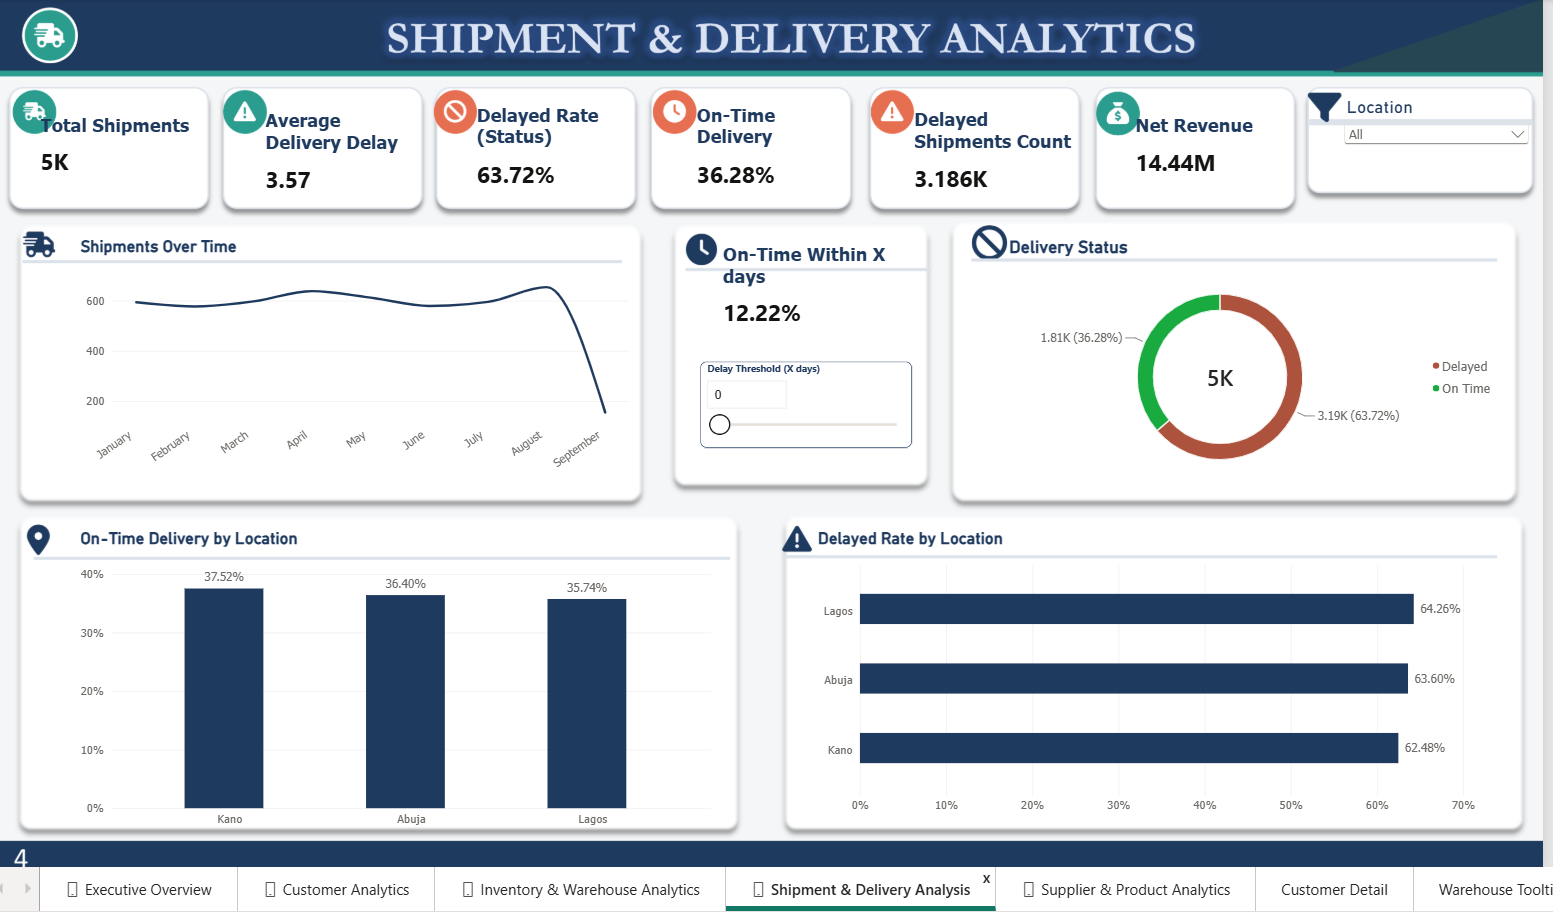

Layout of this report page (visuals, bound fields, positions):
{"tool":"powerbi","page":{"name":"Shipment & Delivery Analysis","canvas":[1920,1080],"ordinal":3},"visuals":[{"type":"cardVisual","fields":{"Data":["Shipments.Total Shipments"]},"box":[35.2,108.9,221.1,147.4],"z":0},{"type":"cardVisual","fields":{"Data":["Shipments.Average Delivery Delay"]},"box":[315.5,122.8,216.1,135.7],"z":1000},{"type":"columnChart","fields":{"Category":["Warehouses.Location"],"Y":["Shipments.On-Time Delivery"]},"box":[85.4,643.2,815.7,405.3],"z":2000},{"type":"barChart","title":"Delayed Rate by Location","fields":{"Category":["Warehouses.Location"],"Y":["Delay Threshold.Delayed Rate (Status)"]},"box":[1003.3,643.2,849.2,388.6],"z":3000},{"type":"slicer","fields":{"Values":["Warehouses.Location"]},"box":[1668.2,120.6,239.5,93.8],"z":4000},{"type":"cardVisual","fields":{"Data":["Delay Threshold.Delay Rate (Status)"]},"box":[577.9,120.6,209.4,125.6],"z":5000},{"type":"cardVisual","fields":{"Data":["Shipments.On-Time Delivery"]},"box":[852.5,120.6,216.1,125.6],"z":6000},{"type":"cardVisual","fields":{"Data":["Customers.Net Revenue"]},"box":[1397.4,111.9,212.7,142.4],"z":7000},{"type":"donutChart","title":"Delivery Status","fields":{"Category":["Delivery_Performance.Status"],"Y":["CountNonNull(Delivery_Performance.Status)"]},"box":[1241.1,281.4,639.8,338.3],"z":8000},{"type":"lineChart","title":" Shipments Over Time","fields":{"Category":["Orders.OrderDate.Variation.Date Hierarchy.Month"],"Y":["Shipments.Total Shipments"]},"box":[85.4,281.4,713.5,338.3],"z":9000},{"type":"cardVisual","fields":{"Data":["Shipments.Delayed Shipments Count"]},"box":[1122.3,121.2,242.5,135.2],"z":11000},{"type":"slicer","fields":{"Values":["Delay Threshold.Delay Threshold"]},"box":[872.6,450.6,263,107.2],"z":12000},{"type":"cardVisual","fields":{"Data":["Shipments.On-Time Within Threshold"]},"box":[884.4,281.4,263,150.7],"z":13000}]}

Visuals, with their boxes on the page's 1920x1080 design canvas (x1, y1, x2, y2). These are canvas units, not pixel positions in the 1553x912 screenshot, which may show the page scaled, cropped or inside an application window:
cardVisual - Shipments.Total Shipments: left=35, top=109, right=256, bottom=256
cardVisual - Shipments.Average Delivery Delay: left=316, top=123, right=532, bottom=258
columnChart - Warehouses.Location x Shipments.On-Time Delivery: left=85, top=643, right=901, bottom=1048
"Delayed Rate by Location" barChart: left=1003, top=643, right=1852, bottom=1032
slicer - Warehouses.Location: left=1668, top=121, right=1908, bottom=214
cardVisual - Delay Threshold.Delay Rate (Status): left=578, top=121, right=787, bottom=246
cardVisual - Shipments.On-Time Delivery: left=852, top=121, right=1069, bottom=246
cardVisual - Customers.Net Revenue: left=1397, top=112, right=1610, bottom=254
"Delivery Status" donutChart: left=1241, top=281, right=1881, bottom=620
" Shipments Over Time" lineChart: left=85, top=281, right=799, bottom=620
cardVisual - Shipments.Delayed Shipments Count: left=1122, top=121, right=1365, bottom=256
slicer - Delay Threshold.Delay Threshold: left=873, top=451, right=1136, bottom=558
cardVisual - Shipments.On-Time Within Threshold: left=884, top=281, right=1147, bottom=432
